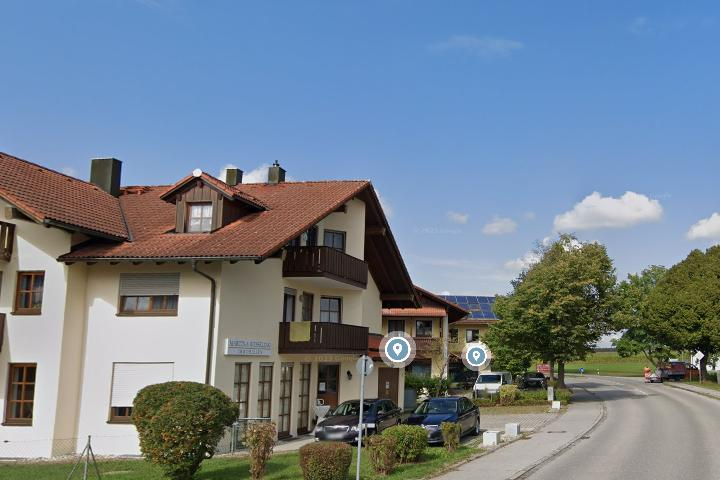google_maps: (382, 334, 413, 363), (466, 345, 487, 366)
traffic_sign: (694, 350, 705, 359)
vehicle: (311, 395, 408, 451), (392, 393, 486, 448), (470, 369, 516, 407), (514, 369, 550, 394)
